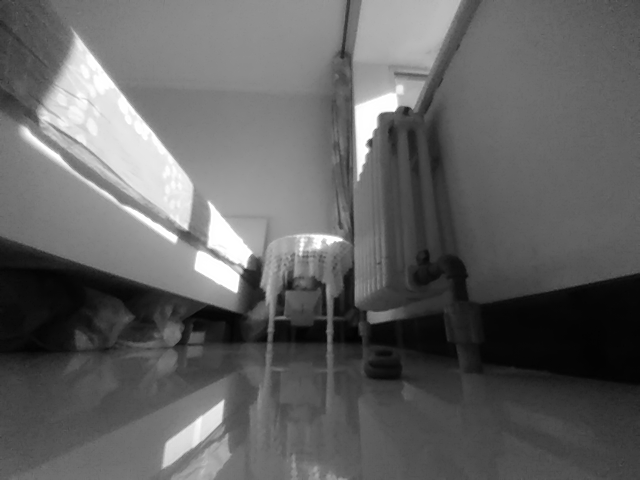pet feces: (363, 348, 406, 381)
